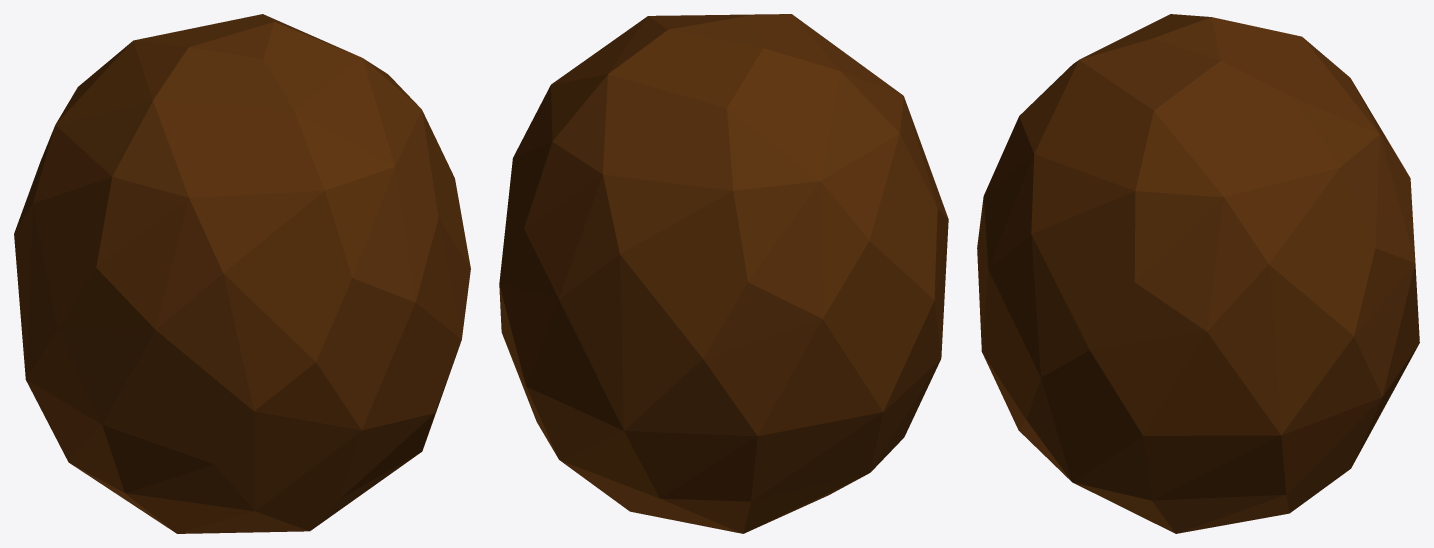
File: Coconut.fbx
The picture shows the model from 3 angles, left to right: view 1: azimuth 30°, elevation 25°; view 2: azimuth 150°, elevation 25°; view 3: azimuth 270°, elevation 25°; orthographic projection.
Visible parts, largest first — view 1: Coconut; view 2: Coconut; view 3: Coconut.
Part boxes in pixels (box(x1,y1,x2,y2)): Coconut: box(14, 14, 470, 533); Coconut: box(499, 14, 948, 533); Coconut: box(977, 14, 1419, 533).
Bounding box in the file's own units: 129 × 148 × 127.
